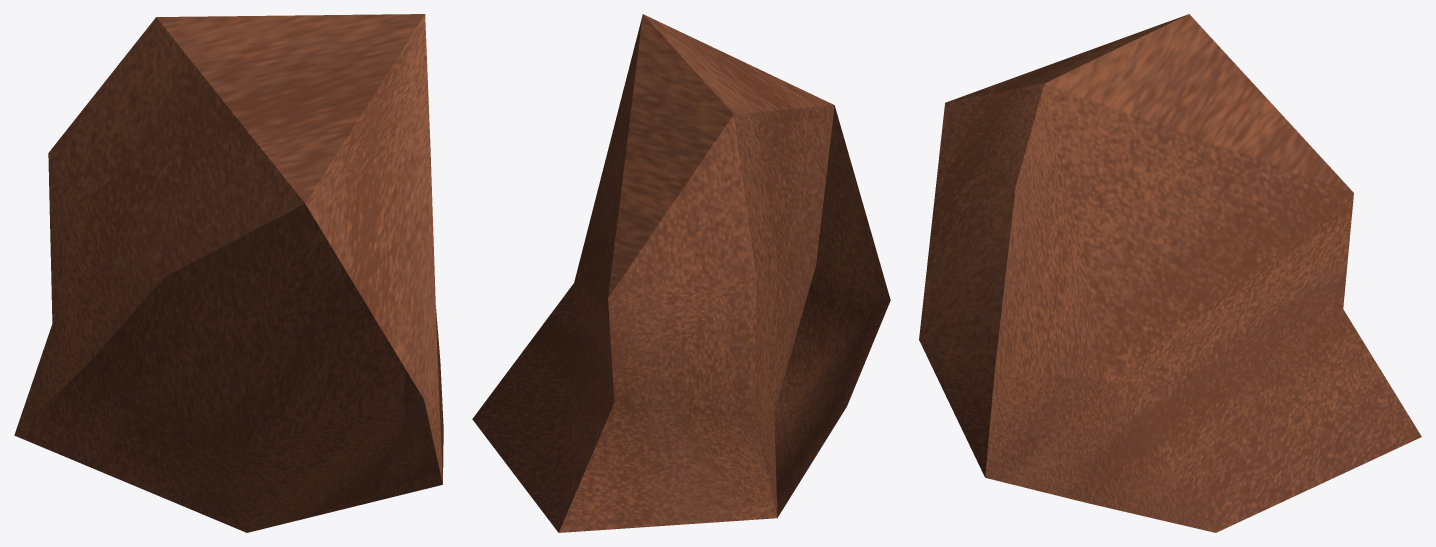
Rendered from Rock9.fbx.
The picture shows the model from 3 angles, left to right: view 1: azimuth 30°, elevation 25°; view 2: azimuth 150°, elevation 25°; view 3: azimuth 270°, elevation 25°; orthographic projection. The views are drawn at different scales.
Parts seen in each view (by area): view 1: polySurface5; view 2: polySurface5; view 3: polySurface5.
Part boxes in pixels (x1,y1,x2,y2): polySurface5: (14,14,443,532); polySurface5: (472,14,890,532); polySurface5: (919,14,1421,532).
Size of the model in its own units: 7.38 by 7.9 by 8.98.
